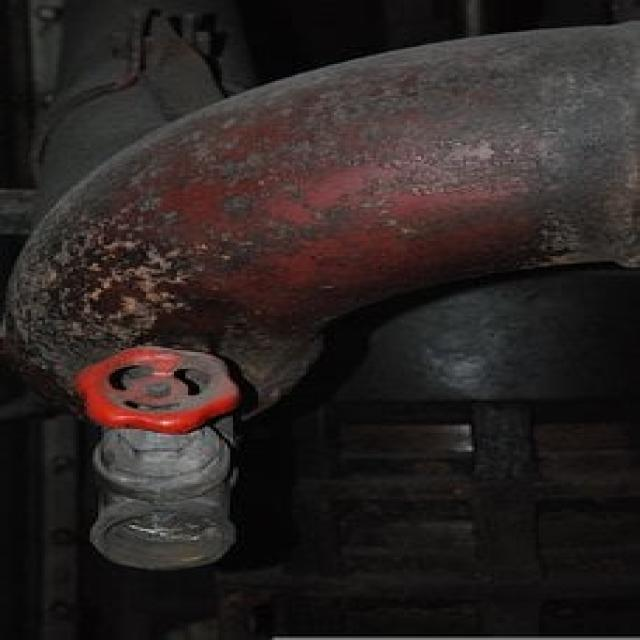corrosion: (0, 23, 640, 570), (94, 427, 234, 566)
